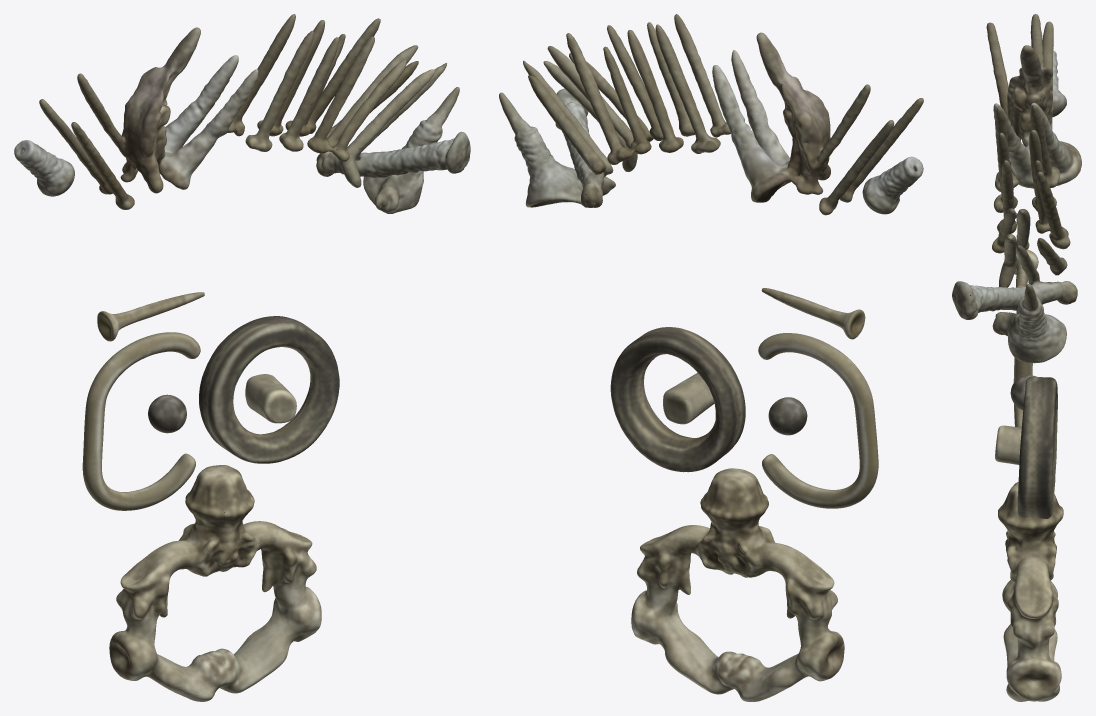
3 views of the same model, side by side, from view 1: azimuth 30°, elevation 25°; view 2: azimuth 150°, elevation 25°; view 3: azimuth 270°, elevation 25° (orthographic). The views are drawn at different scales.
Parts seen in each view (by area): view 1: trellis; view 2: trellis; view 3: trellis.
Part boxes in pixels (x1,y1,x2,y2): trellis: (14, 14, 470, 701); trellis: (499, 14, 923, 701); trellis: (952, 14, 1081, 701).
Size of the model in its own units: 0.6272 by 0.9259 by 0.1709.
Materials: 1 (1 with a texture image).
